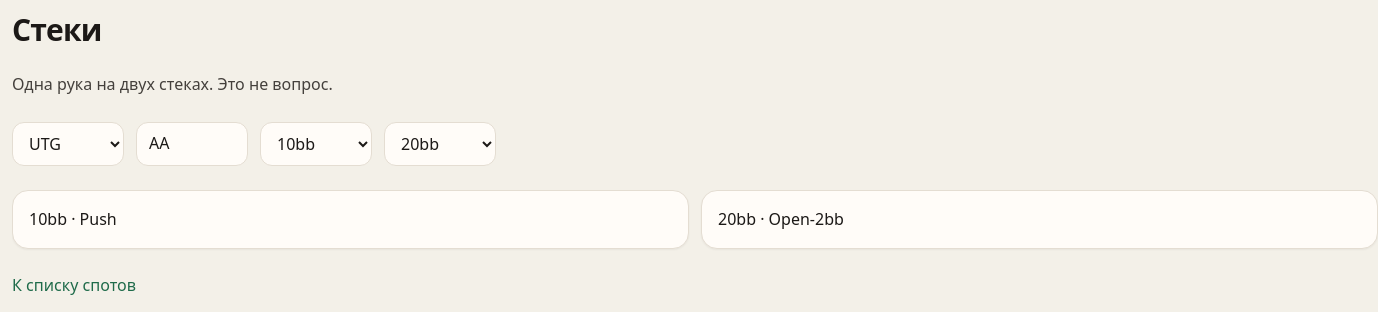
Test: смена стека меняет подпись действия
Expected: the text "10bb · Push" is shown, [29, 208, 117, 230]
Expected: the text "20bb · Open-2bb" is shown, [718, 208, 844, 230]
Step 1. Select "10bb" in the dropdown named "Правый стек" → [440, 144], box [384, 122, 496, 166]
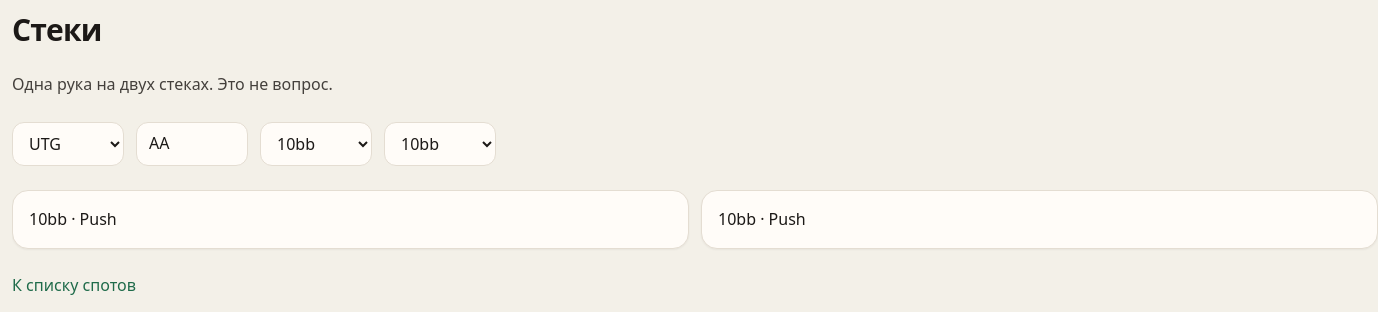
Expected: the text "10bb · Push" is shown 2 times, [29, 208, 117, 230]; [718, 208, 806, 230]
Expected: the text "Open-2bb" is gone
Step 2. Replace the text in the field named "Рука" with "kAs" → [192, 144], box [136, 122, 248, 166]
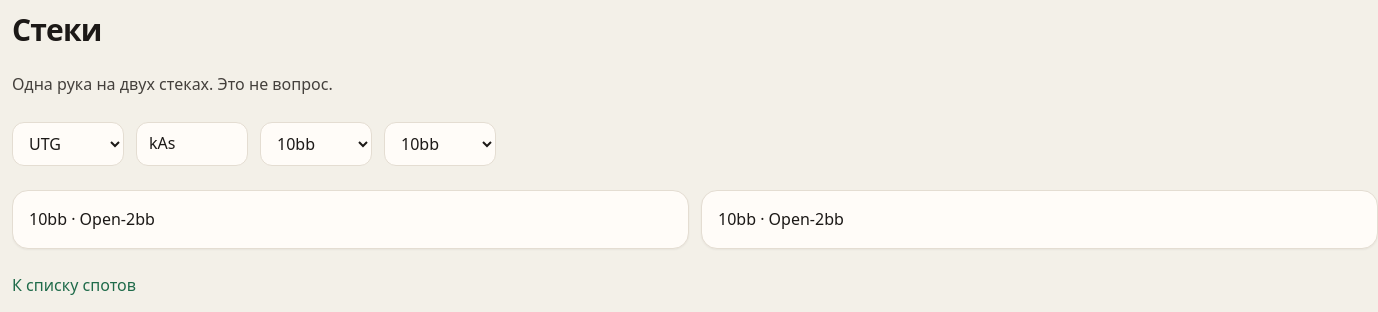
Expected: the text "10bb · Open-2bb" is shown 2 times, [29, 208, 155, 230]; [718, 208, 844, 230]
Step 3. Select "BU" in the dropdown named "Позиция" → [68, 144], box [12, 122, 124, 166]
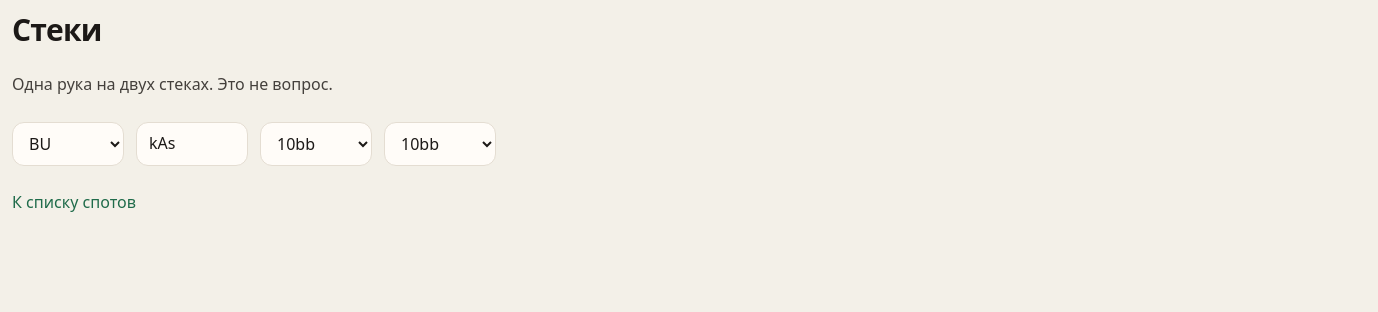
Step 4. Replace the text in the field named "Рука" with "AA" → [192, 144], box [136, 122, 248, 166]
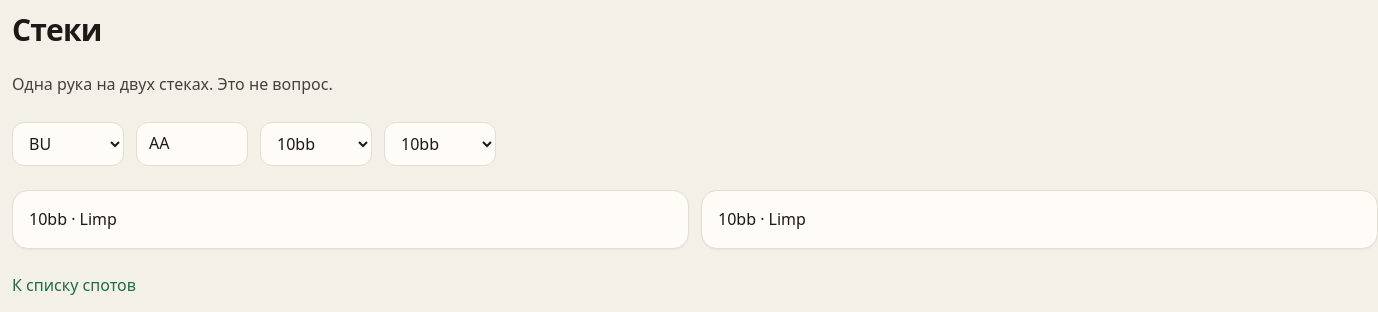
Expected: the text "20bb" is not shown
Expected: the text "10bb · Limp" is shown 2 times, [29, 208, 117, 230]; [718, 208, 806, 230]
